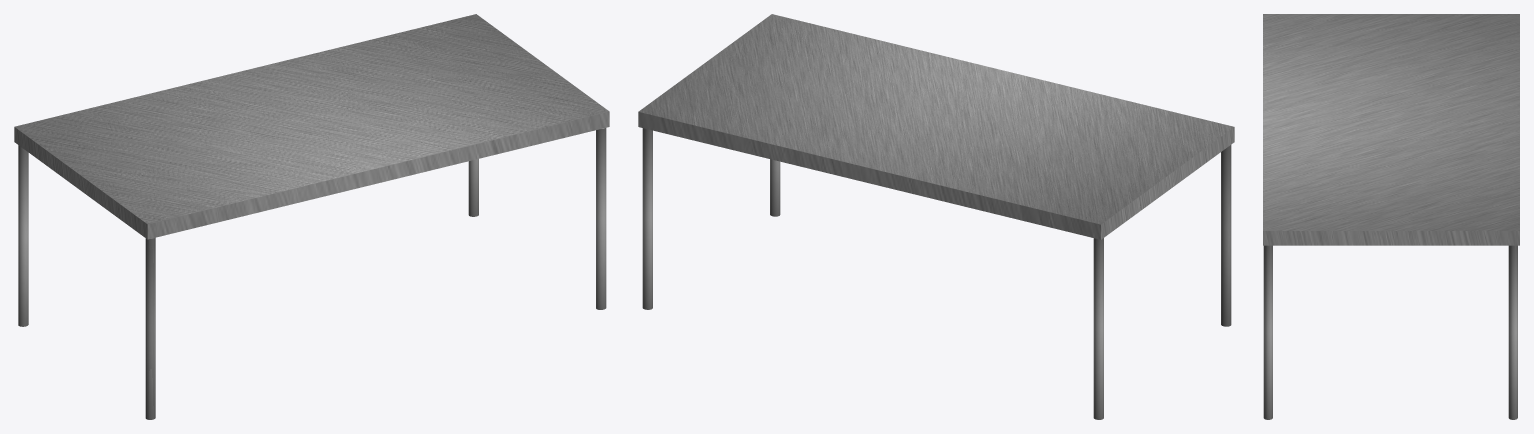
The model's file is table.obj.
3 views of the same model, side by side, from view 1: azimuth 30°, elevation 25°; view 2: azimuth 150°, elevation 25°; view 3: azimuth 270°, elevation 25° (orthographic). The views are drawn at different scales.
Visible parts, largest first — view 1: Cube.003, Cylinder, Cylinder.002, Cylinder.001, Cylinder.003; view 2: Cube.003, Cylinder.001, Cylinder.003, Cylinder, Cylinder.002; view 3: Cube.003, Cylinder.003, Cylinder.002.
Part boxes in pixels (x1,y1,x2,y2): Cube.003: [14, 14, 609, 239]; Cylinder: [145, 237, 155, 419]; Cylinder.002: [596, 128, 606, 309]; Cylinder.001: [18, 145, 28, 326]; Cylinder.003: [468, 159, 478, 216]; Cube.003: [638, 14, 1234, 239]; Cylinder.001: [1093, 238, 1103, 419]; Cylinder.003: [642, 128, 652, 309]; Cylinder: [1221, 145, 1231, 326]; Cylinder.002: [770, 159, 780, 216]; Cube.003: [1263, 14, 1519, 245]; Cylinder.003: [1508, 245, 1517, 419]; Cylinder.002: [1263, 245, 1272, 419].
Bounding box in the file's own units: 2.4 × 0.9773 × 1.2.
